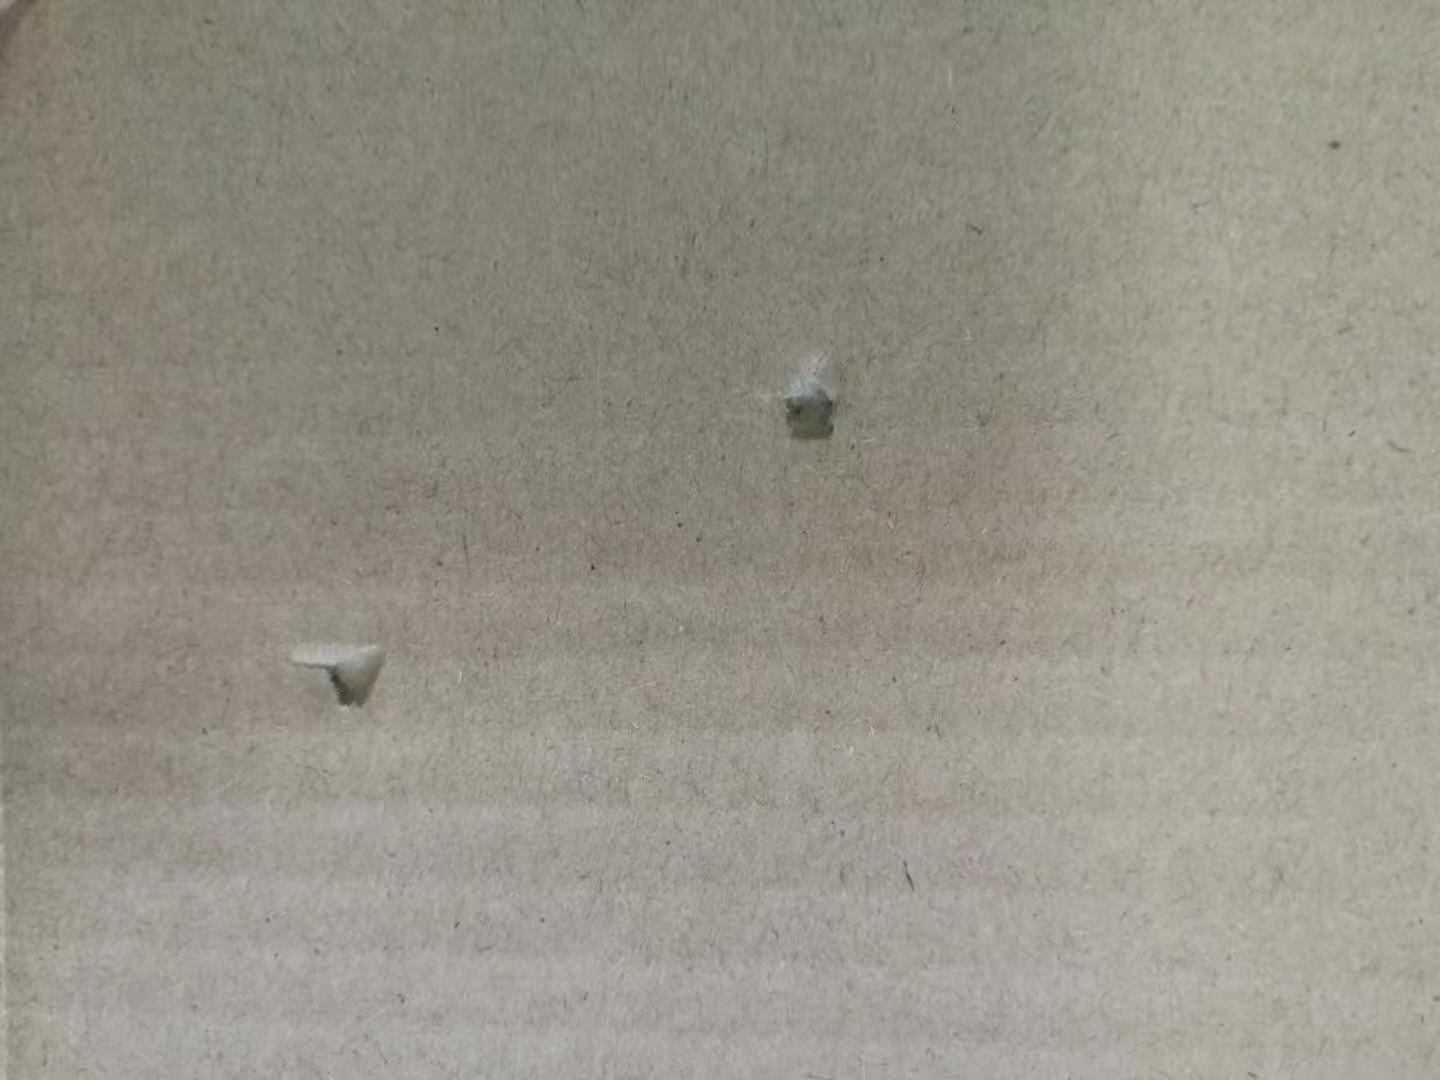defect: (745, 328, 880, 478), (271, 617, 416, 734), (1, 1, 49, 82)
